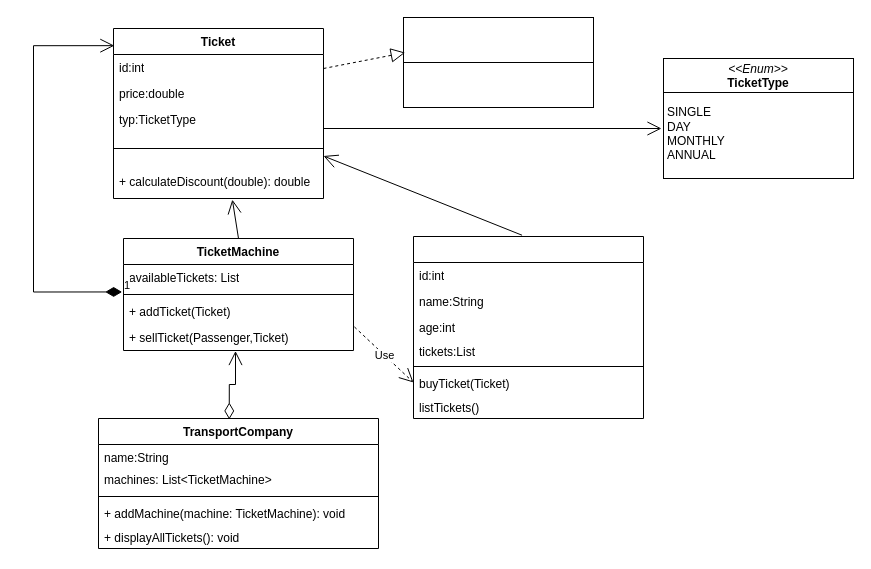
Some shapes in this 871 by 569 pixel diagram are drawn without their labels. The shapes that lost their labels are listed below. From the top down, each one's box as (x1, y1, x2, y2) in pixels, then its label:
(402, 16, 594, 108): <<Interface>> Payable + pay(amount: double ): void
(412, 236, 644, 418): Passenger
